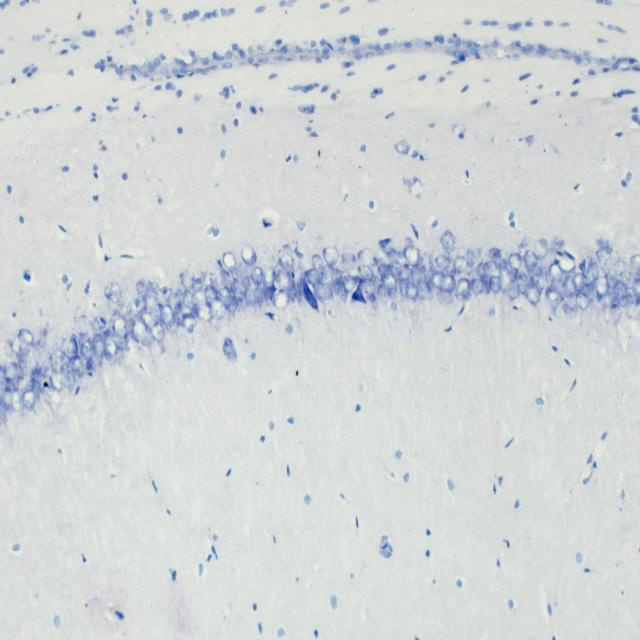neuron: (132, 320, 153, 348), (302, 277, 318, 310), (556, 297, 578, 320), (50, 348, 70, 372), (526, 276, 542, 306), (3, 361, 23, 383), (358, 248, 382, 266), (174, 303, 192, 326), (61, 336, 78, 360), (125, 294, 147, 312), (59, 367, 76, 390), (240, 244, 257, 267), (32, 342, 48, 366), (455, 277, 471, 301), (550, 278, 569, 298), (614, 280, 628, 307), (222, 337, 237, 362), (245, 282, 260, 307), (18, 374, 35, 396), (111, 329, 127, 352), (10, 388, 24, 414), (314, 282, 334, 300), (482, 260, 500, 280), (595, 276, 610, 300), (276, 270, 292, 292), (564, 274, 580, 296), (39, 374, 54, 397), (523, 250, 538, 273), (104, 343, 123, 361), (272, 290, 290, 309), (546, 287, 564, 306), (292, 264, 303, 295), (49, 371, 66, 391), (112, 317, 128, 338), (210, 298, 226, 319), (498, 265, 512, 289), (533, 238, 548, 260), (380, 273, 398, 291), (18, 328, 35, 347), (22, 389, 36, 412), (71, 354, 85, 377), (233, 261, 249, 281), (323, 246, 339, 266), (25, 349, 38, 373), (204, 286, 218, 308), (441, 230, 455, 252), (403, 246, 420, 264), (192, 290, 208, 309), (560, 256, 576, 275), (279, 252, 294, 272), (219, 286, 232, 309), (234, 290, 248, 311), (262, 267, 276, 288), (508, 252, 522, 273), (92, 333, 104, 357), (90, 350, 102, 374), (151, 322, 165, 342), (320, 264, 334, 284), (360, 279, 374, 299), (518, 270, 529, 295), (197, 304, 213, 321), (548, 263, 564, 280), (596, 248, 612, 265), (180, 270, 195, 288), (405, 282, 419, 301), (411, 264, 422, 288), (518, 234, 530, 256), (343, 276, 359, 292), (435, 254, 451, 270), (224, 295, 238, 313), (234, 276, 248, 294), (305, 268, 319, 286), (388, 259, 402, 277), (625, 287, 639, 305), (223, 251, 236, 270), (432, 270, 443, 292), (80, 339, 92, 359), (182, 313, 197, 329), (183, 289, 195, 309), (252, 266, 264, 286), (387, 288, 402, 304), (379, 238, 394, 254), (530, 274, 545, 290), (582, 268, 594, 288), (610, 304, 622, 324), (146, 296, 160, 313), (454, 256, 468, 273), (443, 274, 456, 292), (3, 386, 13, 409), (160, 304, 172, 323), (358, 265, 373, 280), (507, 285, 521, 301), (576, 293, 589, 310), (42, 358, 53, 378), (372, 274, 383, 294), (377, 284, 388, 304), (104, 328, 116, 346), (489, 276, 501, 294), (573, 274, 585, 292), (341, 251, 356, 265), (550, 235, 564, 250), (168, 293, 181, 309), (201, 271, 214, 287), (160, 286, 172, 303), (11, 337, 21, 357), (337, 280, 346, 302), (398, 279, 409, 297), (602, 294, 615, 309), (398, 265, 410, 281), (468, 246, 480, 262), (471, 278, 483, 294), (604, 273, 616, 289), (5, 339, 15, 358), (136, 277, 146, 296), (588, 262, 598, 281), (166, 320, 179, 334), (19, 358, 29, 376), (80, 370, 89, 390), (615, 260, 627, 275), (79, 332, 90, 348), (125, 317, 136, 333), (312, 254, 323, 270), (422, 252, 431, 271), (222, 275, 232, 292), (140, 312, 152, 326), (148, 282, 160, 296), (208, 317, 222, 329), (489, 248, 501, 262), (620, 271, 631, 286), (334, 267, 342, 285), (369, 292, 377, 310), (378, 262, 390, 274), (390, 249, 401, 262), (420, 280, 431, 293), (630, 253, 640, 267), (97, 316, 106, 331), (19, 342, 29, 355), (82, 356, 92, 369), (405, 237, 414, 251), (498, 258, 508, 270), (581, 285, 591, 297), (105, 283, 113, 297), (120, 305, 128, 319), (192, 281, 202, 292), (604, 306, 610, 324), (253, 288, 260, 303), (91, 317, 99, 330), (107, 306, 117, 316), (296, 221, 306, 231), (110, 292, 118, 304), (153, 309, 161, 321), (110, 281, 119, 291), (174, 289, 182, 300), (116, 298, 124, 308), (536, 267, 542, 278), (40, 328, 48, 336), (390, 302, 397, 311), (490, 308, 496, 317), (450, 269, 456, 277), (398, 252, 404, 259), (480, 272, 484, 282), (120, 291, 124, 298)
